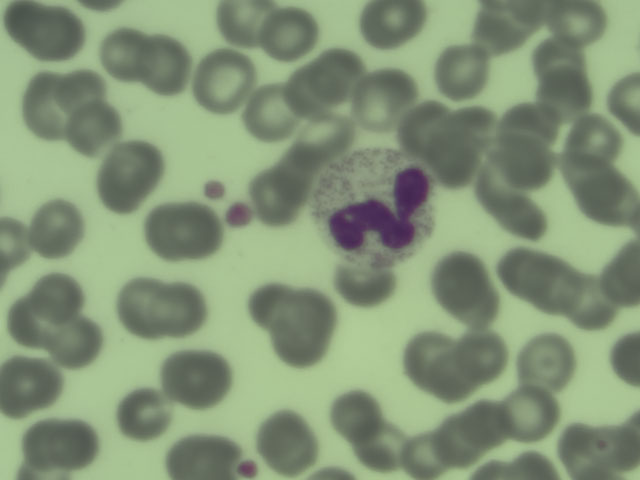Platelets: (227, 199, 253, 229), (200, 177, 227, 204), (235, 456, 259, 475)
RBC: (193, 52, 253, 116), (102, 144, 163, 206), (257, 411, 320, 470), (169, 353, 226, 408), (217, 1, 277, 51), (164, 434, 230, 478), (558, 423, 609, 473), (1, 358, 49, 411), (570, 114, 622, 162), (503, 101, 557, 146), (536, 35, 586, 83), (365, 1, 422, 43), (435, 257, 484, 305), (497, 249, 546, 297), (541, 269, 590, 317), (567, 281, 616, 329), (589, 177, 638, 225), (566, 150, 615, 198), (498, 193, 547, 241), (500, 138, 549, 186), (536, 69, 585, 117), (430, 139, 479, 187), (401, 102, 450, 150), (460, 333, 509, 381), (428, 356, 477, 404), (398, 336, 447, 384), (522, 341, 571, 389), (506, 391, 555, 439), (465, 401, 514, 449), (435, 416, 484, 464), (403, 432, 452, 480), (361, 420, 410, 468), (342, 260, 391, 308), (332, 390, 381, 438), (440, 43, 489, 91), (358, 74, 407, 122), (300, 112, 349, 160), (270, 147, 319, 195), (249, 174, 298, 222), (276, 322, 325, 370), (283, 286, 332, 334), (241, 278, 290, 326), (114, 393, 163, 441), (158, 284, 207, 332), (114, 282, 163, 330), (139, 208, 188, 256), (171, 207, 220, 255), (48, 418, 97, 466), (11, 424, 60, 472), (52, 318, 101, 366), (2, 297, 51, 345), (35, 274, 84, 322), (33, 205, 82, 253), (314, 51, 363, 99), (279, 65, 328, 113), (244, 89, 293, 137), (269, 13, 318, 61), (65, 108, 114, 156), (57, 67, 106, 115), (17, 80, 66, 128), (134, 37, 183, 85), (103, 31, 152, 79), (31, 12, 80, 60), (558, 1, 607, 48), (478, 1, 527, 48), (1, 1, 49, 48), (449, 102, 494, 148), (597, 254, 640, 302), (505, 446, 559, 480), (604, 334, 640, 385), (1, 216, 30, 278), (608, 75, 640, 127)
WBC: (316, 153, 434, 264)
